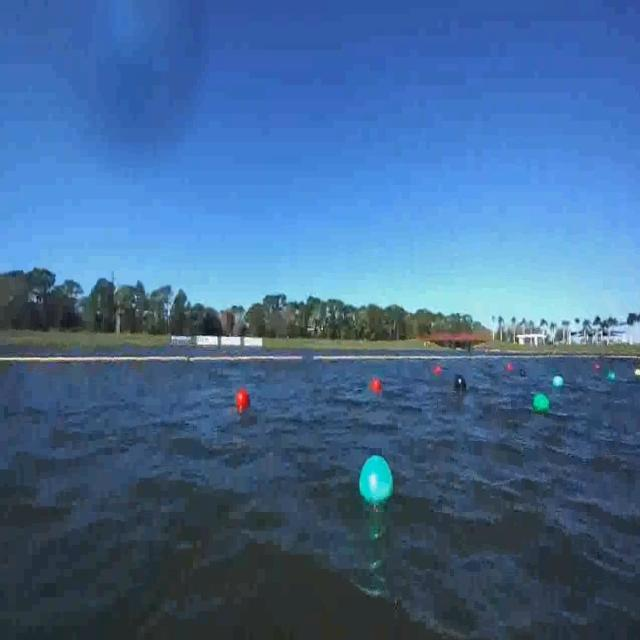black-buoy: (454, 375, 468, 393)
green-buoy: (355, 452, 402, 529), (535, 396, 552, 416), (554, 377, 565, 389)
red-buoy: (235, 387, 248, 409), (372, 378, 383, 394), (370, 376, 380, 392), (434, 365, 441, 375)
